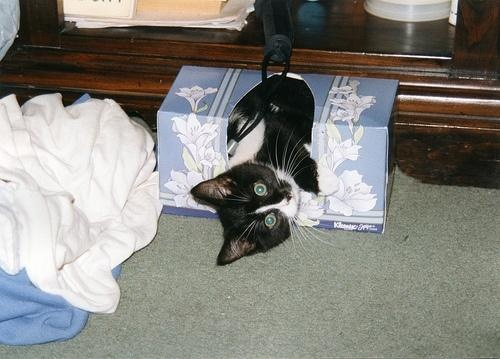cat: (190, 72, 341, 269)
